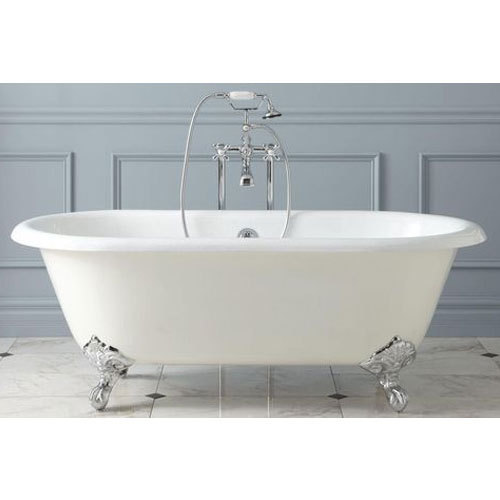bathub: (11, 195, 489, 421)
